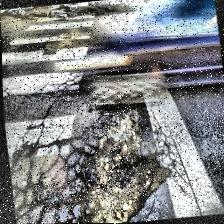pothole: (61, 129, 176, 223)
